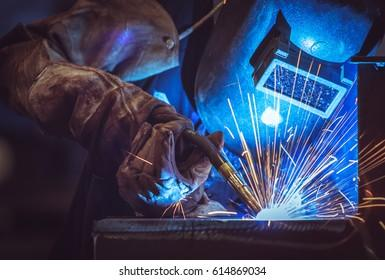gloves: (34, 61, 224, 216)
